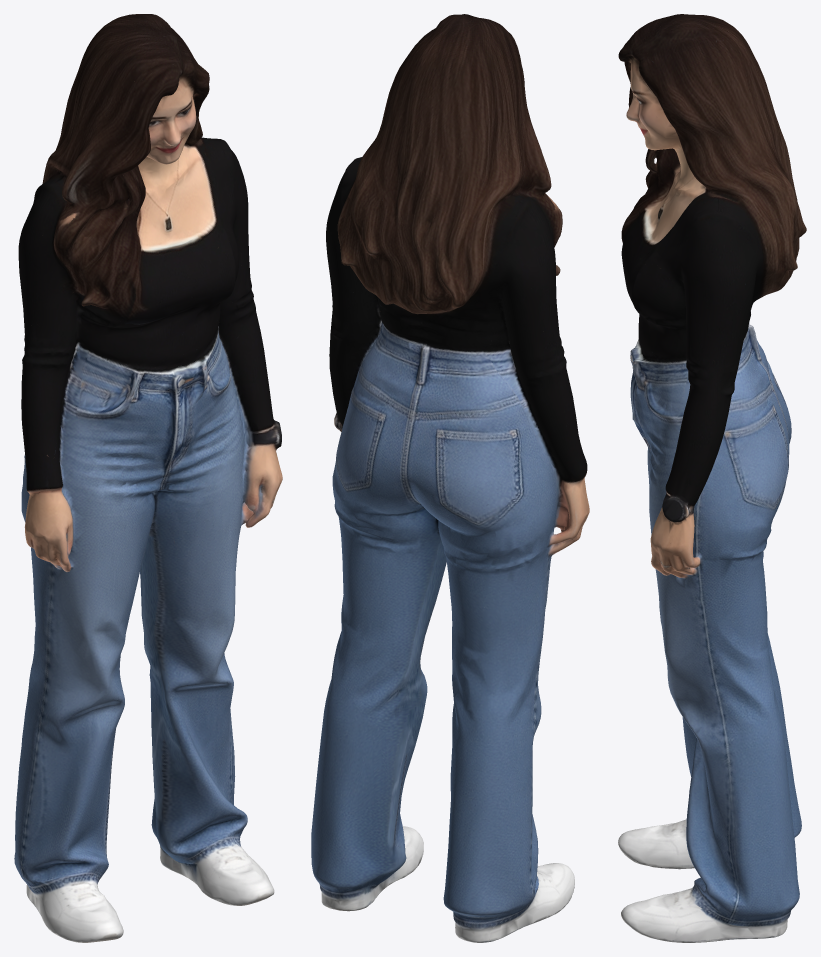
Rendered from anushri-character.glb.
3 renders of one model, left to right at view 1: azimuth 30°, elevation 25°; view 2: azimuth 150°, elevation 25°; view 3: azimuth 270°, elevation 25°, orthographic.
Bounding box in the file's own units: 0.4812 × 1.62 × 0.3166.
Materials: 1 (1 with a texture image).
